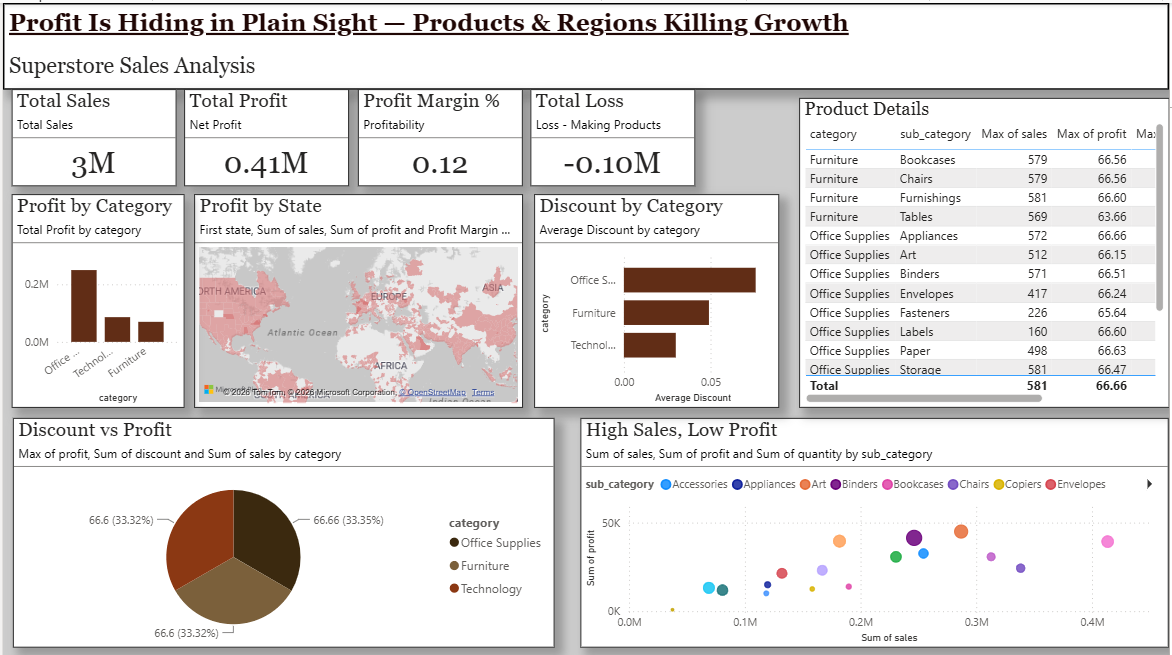

What the dashboard file says about the page in this screenshot:
{"tool":"powerbi","page":{"name":"Page 1","canvas":[1280,720],"ordinal":0},"visuals":[{"type":"textbox","title":"Profit Is Hiding in Plain Sight — Products & Regions Killing Growth","box":[0,0,1280,95.3],"z":0},{"type":"card","title":"Total Sales ","fields":{"Values":["Superstore.Total Sales"]},"box":[9.7,95.3,181,106.2],"z":1000},{"type":"card","title":"Total Profit","fields":{"Values":["Superstore.Total Profit"]},"box":[199.1,95.3,181,106.2],"z":2000},{"type":"card","title":"Profit Margin %","fields":{"Values":["Superstore.Profit Margin %"]},"box":[389.7,95.3,181,106.2],"z":3000},{"type":"card","title":"Total Loss","fields":{"Values":["Superstore.Loss Amount"]},"box":[579.1,95.3,181,106.2],"z":4000},{"type":"scatterChart","title":"High Sales, Low Profit ","fields":{"X":["Sum(Superstore.sales)"],"Y":["Sum(Superstore.profit)"],"Size":["Sum(Superstore.quantity)"],"Series":["Superstore.sub_category"]},"box":[0,209.9,528.4,236.5],"z":5000},{"type":"filledMap","title":"Profit by State ","fields":{"Category":["Superstore.state"]},"box":[772.1,95.3,507.9,285.9],"z":6000},{"type":"clusteredColumnChart","title":"Profit by Category ","fields":{"Category":["Superstore.category"],"Y":["Superstore.Total Profit"]},"box":[539.3,209.9,220.8,236.5],"z":8000},{"type":"clusteredColumnChart","title":"Discount by Category ","fields":{"Category":["Superstore.category"],"Y":["Superstore.Average Discount"]},"box":[406.6,456,353.5,252.1],"z":9000},{"type":"pieChart","title":"Discount vs Profit ","fields":{"Y":["Max(Superstore.profit)"],"Category":["Superstore.category"]},"box":[0,456,398.1,252.1],"z":10000},{"type":"tableEx","title":"Product Details ","fields":{"Values":["Superstore.category","Superstore.sub_category","Max(Superstore.sales)","Max(Superstore.profit)","Max(Superstore.discount)","Max(Superstore.quantity)"]},"box":[772.1,392.1,507.9,316.1],"z":10001}]}

Visuals, with their boxes in screenshot pixels (x1, y1, x2, y2), scaled from the page's 1280x720 canvas onto the 1172x655 screenshot:
"Profit Is Hiding in Plain Sight — Products & Regions Killing Growth" textbox: (0, 0, 1171, 87)
"Total Sales " card: (9, 87, 175, 183)
"Total Profit" card: (182, 87, 348, 183)
"Profit Margin %" card: (357, 87, 523, 183)
"Total Loss" card: (530, 87, 696, 183)
"High Sales, Low Profit " scatterChart: (0, 191, 484, 406)
"Profit by State " filledMap: (707, 87, 1171, 347)
"Profit by Category " clusteredColumnChart: (494, 191, 696, 406)
"Discount by Category " clusteredColumnChart: (372, 415, 696, 644)
"Discount vs Profit " pieChart: (0, 415, 365, 644)
"Product Details " tableEx: (707, 357, 1171, 644)
